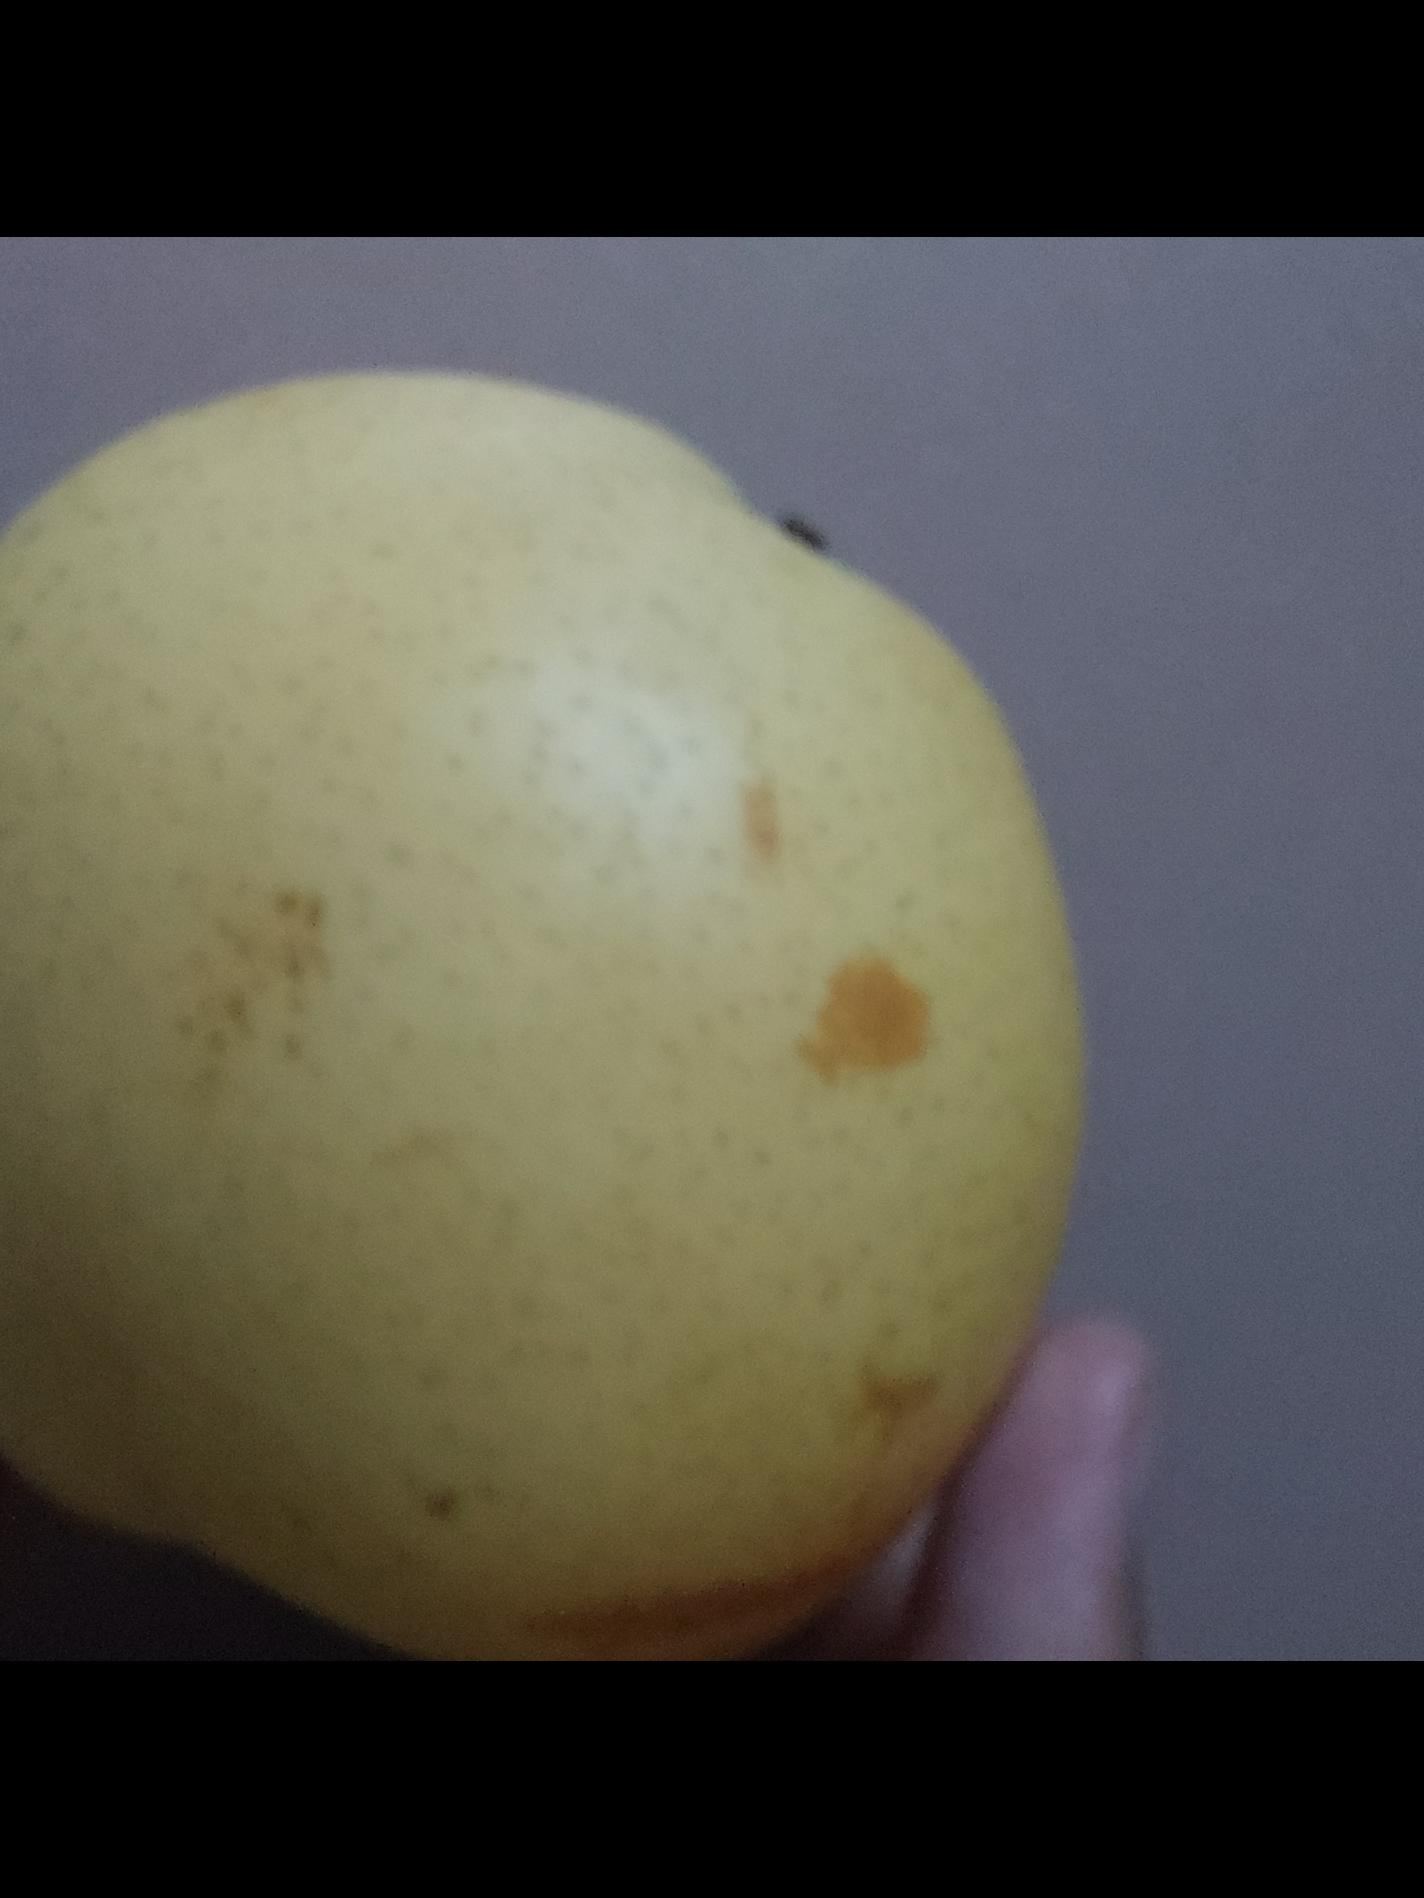Good Pear: (0, 334, 1111, 1662)
